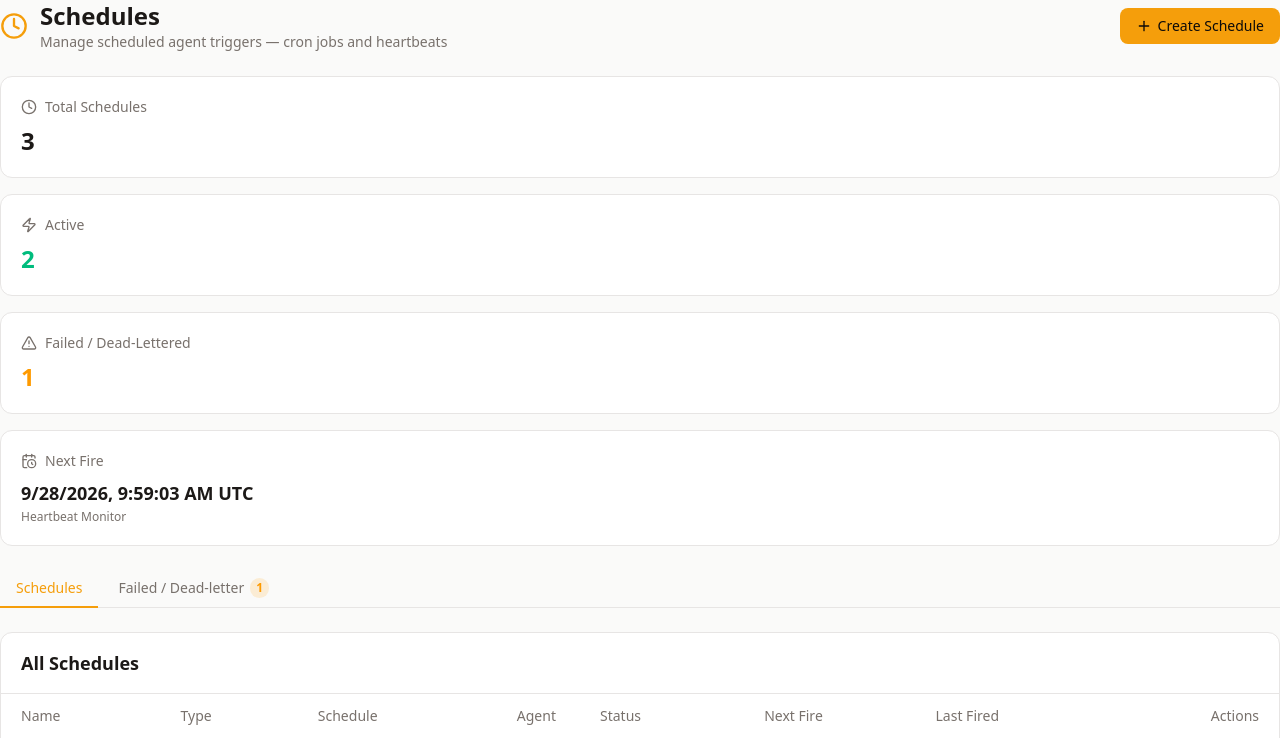
Test: SchedulesPage › switches to heartbeat mode in create dialog and shows interval field
Click the button with test id "create-schedule-btn". click: {"x": 1200, "y": 26}
box: [1120,8,1279,44]
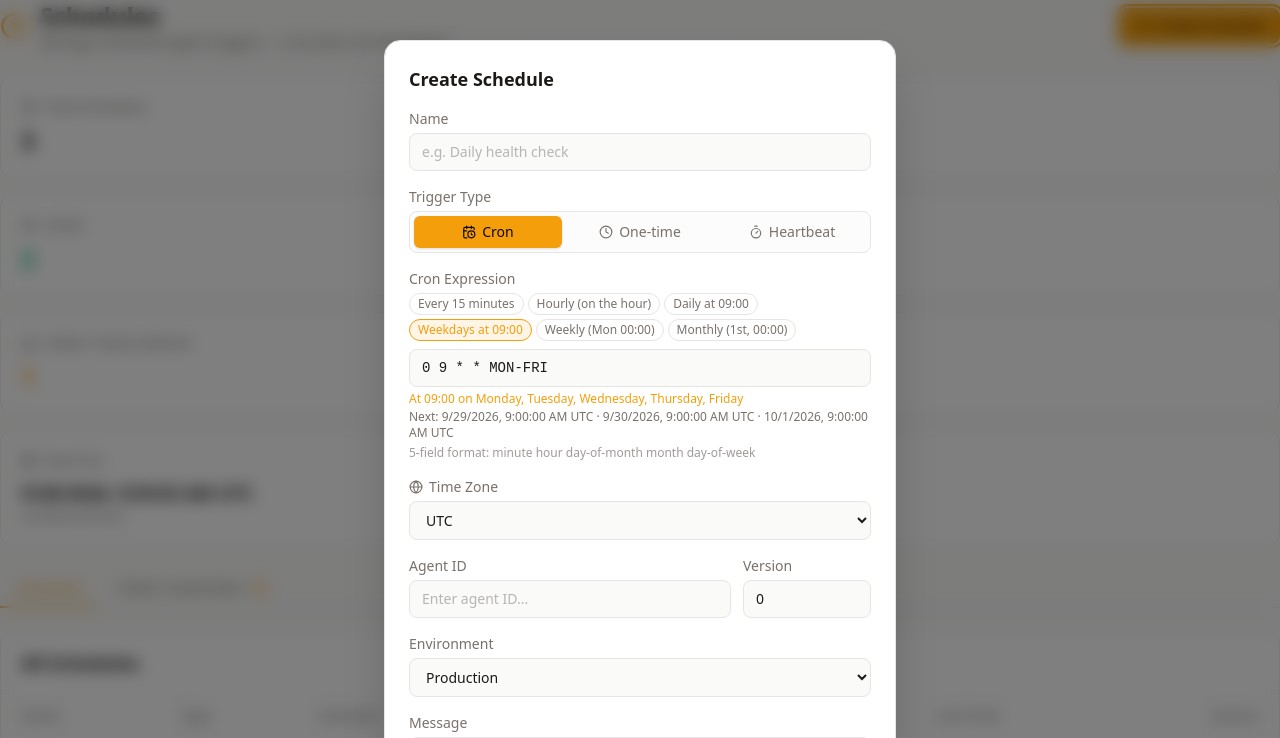
// Click Heartbeat tab
Click the button "Heartbeat". click: {"x": 792, "y": 232}
box: [718,216,866,248]
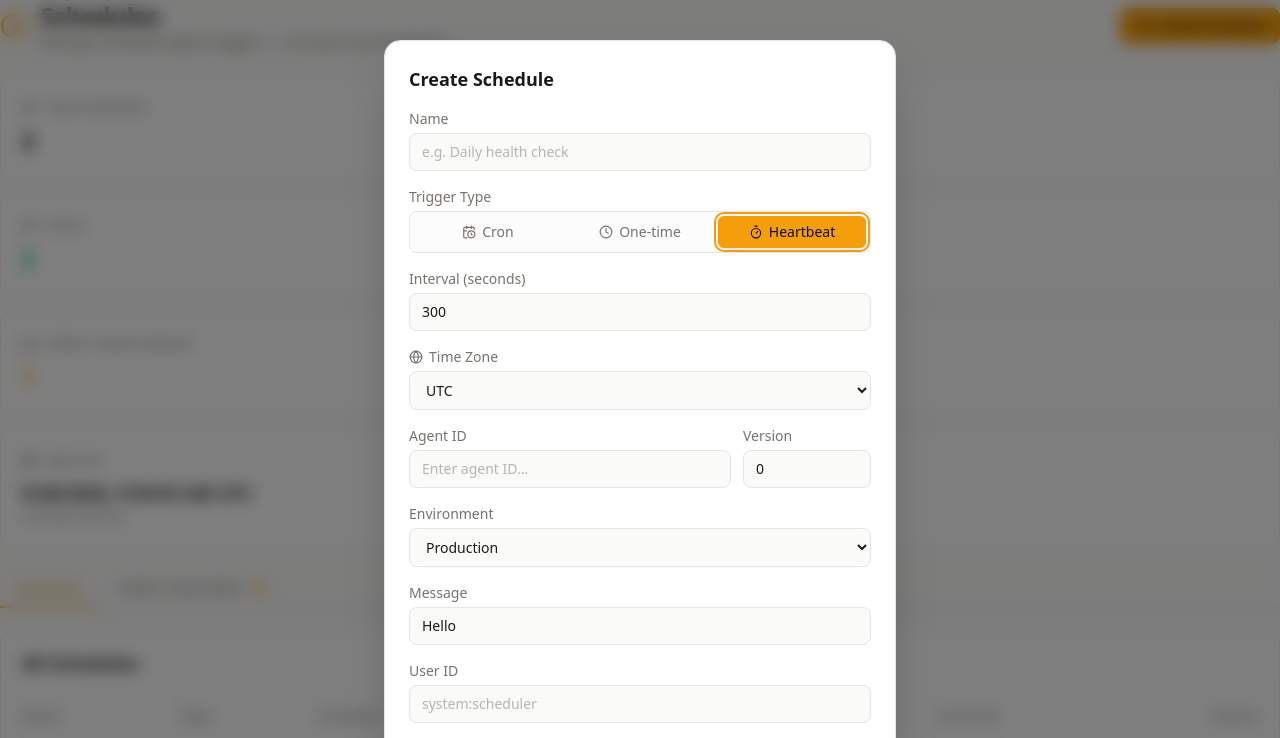
Result: the text "Interval (seconds)" is shown at [409,269,526,288]
